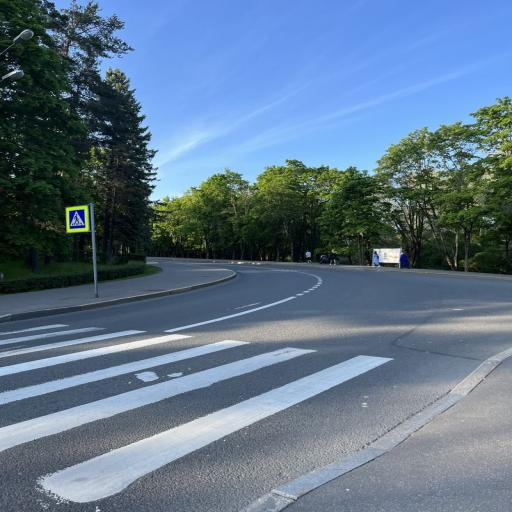closet: (0, 306, 473, 511)
construction_fence: (229, 341, 511, 511)
ramp: (0, 262, 510, 511)
